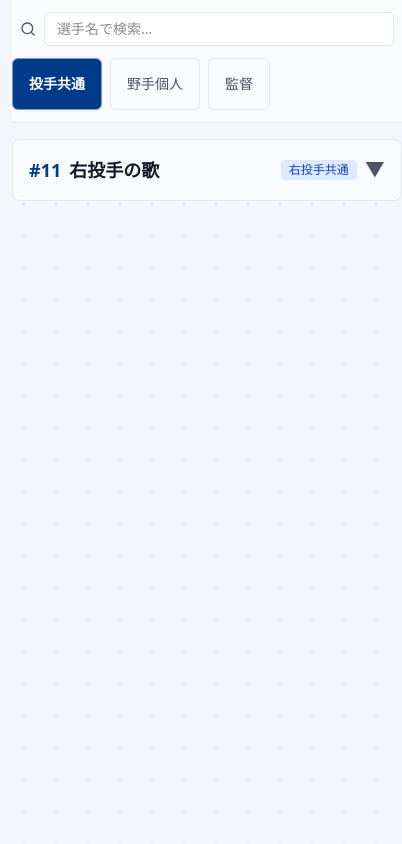
Test: CheerSongViewer › タブを切り替えると対応する曲が表示される
What coordinates should you click on to do the following:
click the tab "野手個人"
I would click on:
 (155, 84)
Its box is [110,58,200,110].
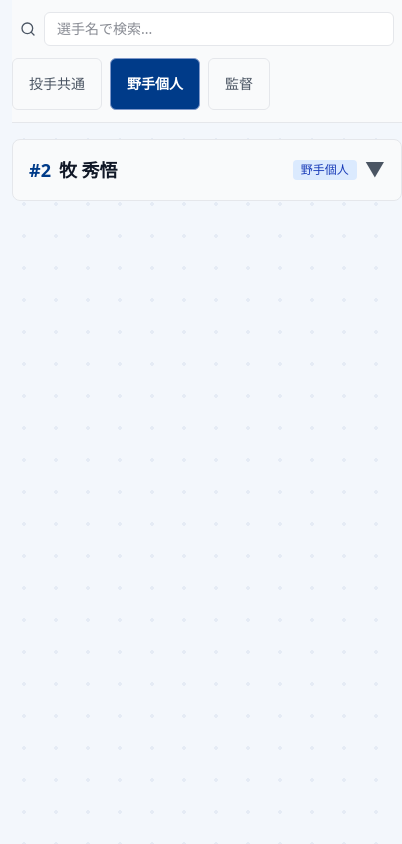
Expected: the heading "#2牧 秀悟" is shown, [29,156,118,184]
Expected: the heading "右投手の歌" is gone
What coordinates should you click on to do the following:
click the tab "監督"
I would click on:
 (239, 84)
Its box is [208,58,270,110].
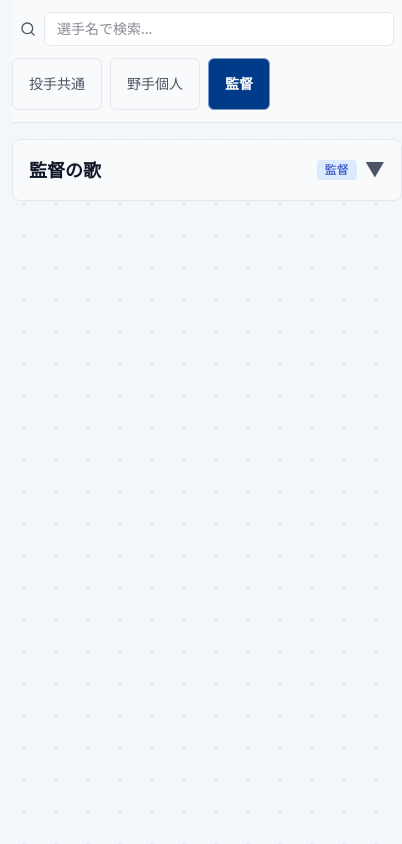
Expected: the heading "監督の歌" is shown, [29,156,101,184]
